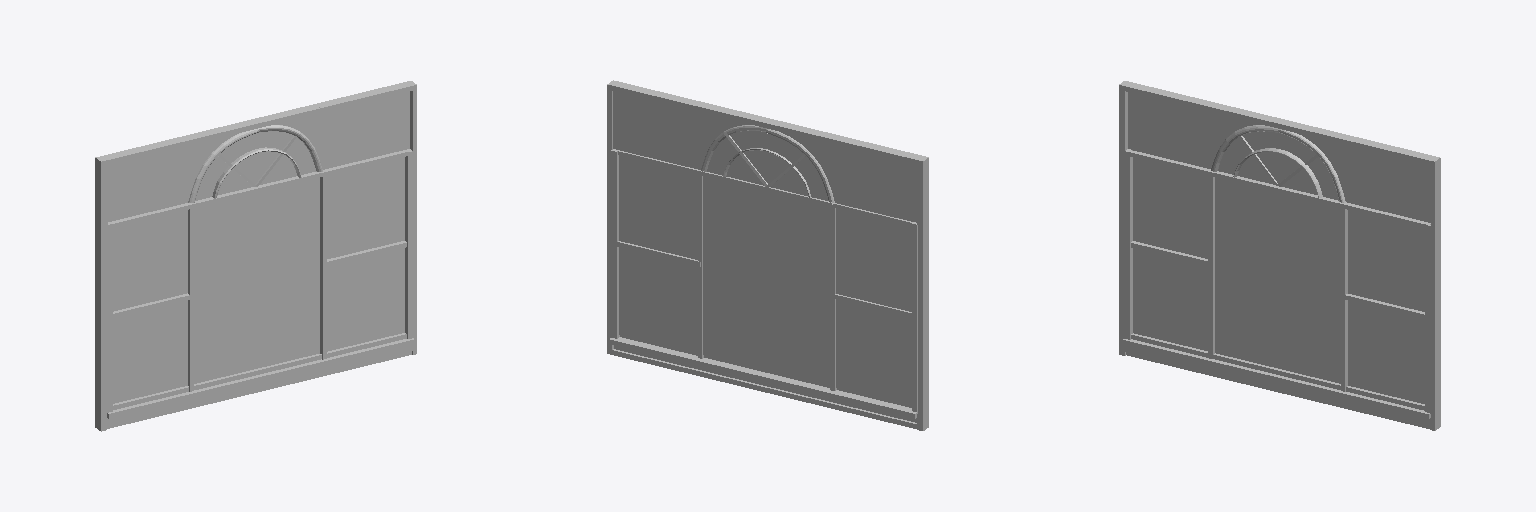
The model's file is window1.obj.
3 renders of one model, left to right at view 1: azimuth 30°, elevation 25°; view 2: azimuth 150°, elevation 25°; view 3: azimuth 330°, elevation 25°, orthographic.
Parts seen in each view (by area): view 1: sweethome3d_window_pane_17, Boolean_1_16, Cube_6_3_4, Cube_5_3, Cube_2_9, Cube_6_2_6, sill_18, Cube_6_1_8, Cube_5_2_21, Cube_3_7, Cube_6_1, Cube_6_4_2 (+6 smaller); view 2: sweethome3d_window_pane_17, Boolean_1_16, Cube_5_3, Cube_6_3_4, Cube_6_4_2, Cube_2_9, Cube_6_1_8, Cube_5_3_20, Cube_6_1, Cube_6_2_6, Cube_1_11, Cube_3_7 (+2 smaller); view 3: sweethome3d_window_pane_17, Cube_6_3_4, Cube_5_3_20, Cube_5_3, Cube_2_9, Cube_6_2_6, sill_18, Cube_6_1, Boolean_1_16, Cube_1_11, Cube_3_7, Cube_6_1_8 (+5 smaller).
Part boxes in pixels (bbox=[...]): sweethome3d_window_pane_17: bbox=[108, 92, 409, 403]; Boolean_1_16: bbox=[95, 82, 409, 428]; Cube_6_3_4: bbox=[104, 82, 412, 165]; Cube_5_3: bbox=[107, 338, 414, 418]; Cube_2_9: bbox=[111, 149, 410, 227]; Cube_6_2_6: bbox=[107, 345, 412, 425]; sill_18: bbox=[113, 333, 406, 409]; Cube_6_1_8: bbox=[405, 149, 413, 338]; Cube_5_2_21: bbox=[95, 158, 106, 431]; Cube_3_7: bbox=[320, 176, 326, 359]; Cube_6_1: bbox=[107, 222, 112, 412]; Cube_6_4_2: bbox=[107, 351, 411, 428]; sweethome3d_window_pane_17: bbox=[613, 91, 916, 405]; Boolean_1_16: bbox=[616, 82, 928, 429]; Cube_5_3: bbox=[609, 337, 916, 418]; Cube_6_3_4: bbox=[612, 81, 921, 164]; Cube_6_4_2: bbox=[612, 349, 916, 428]; Cube_2_9: bbox=[615, 149, 912, 226]; Cube_6_1_8: bbox=[611, 149, 619, 338]; Cube_5_3_20: bbox=[607, 80, 616, 354]; Cube_6_1: bbox=[912, 222, 917, 413]; Cube_6_2_6: bbox=[614, 346, 916, 422]; Cube_1_11: bbox=[830, 204, 836, 390]; Cube_3_7: bbox=[698, 172, 703, 358]; sweethome3d_window_pane_17: bbox=[1128, 92, 1430, 403]; Cube_6_3_4: bbox=[1124, 82, 1435, 165]; Cube_5_3_20: bbox=[1431, 157, 1440, 430]; Cube_5_3: bbox=[1123, 339, 1430, 418]; Cube_2_9: bbox=[1130, 151, 1430, 227]; Cube_6_2_6: bbox=[1125, 345, 1430, 425]; sill_18: bbox=[1131, 333, 1424, 410]; Cube_6_1: bbox=[1124, 149, 1132, 339]; Boolean_1_16: bbox=[1119, 81, 1432, 353]; Cube_1_11: bbox=[1208, 176, 1214, 358]; Cube_3_7: bbox=[1341, 208, 1347, 391]; Cube_6_1_8: bbox=[1425, 225, 1430, 413].
Bounding box in the file's own units: 213 × 174 × 11.6.